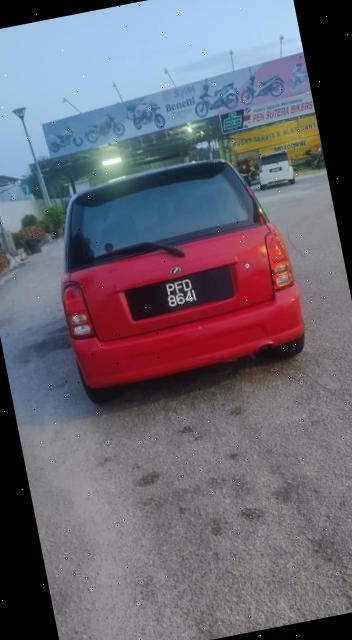License_Plate: (146, 269, 214, 316)
car: (37, 145, 309, 410)
